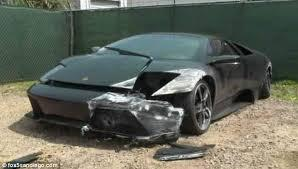front-bumper-dent: (101, 94, 178, 136)
